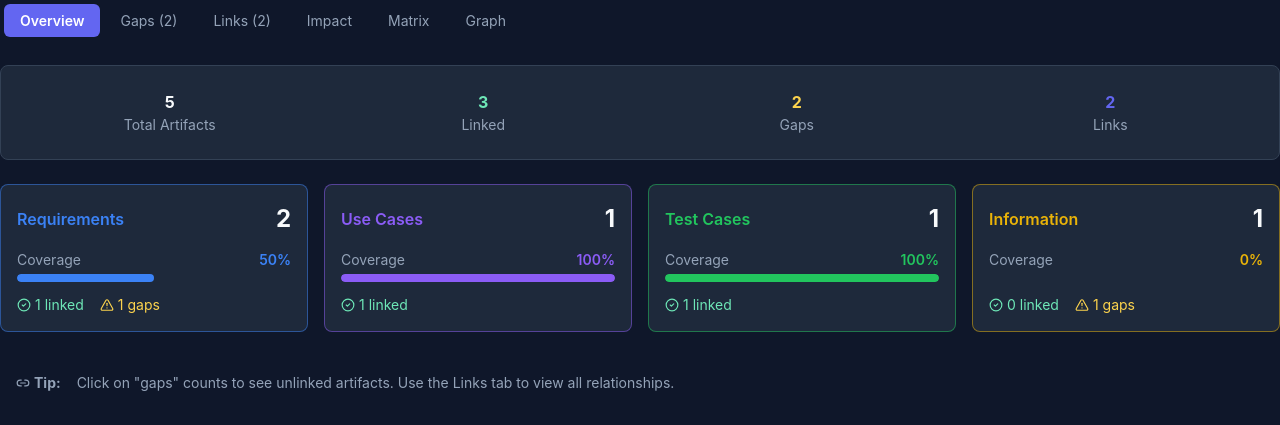
Test: TraceabilityDashboard › Impact Tab › shows artifact selector dropdown
This screenshot has width=1280, height=425.
What coordinates should you click on to do the following:
click the button "Impact"
I would click on:
 (329, 20)
Its box is [291,4,368,37].
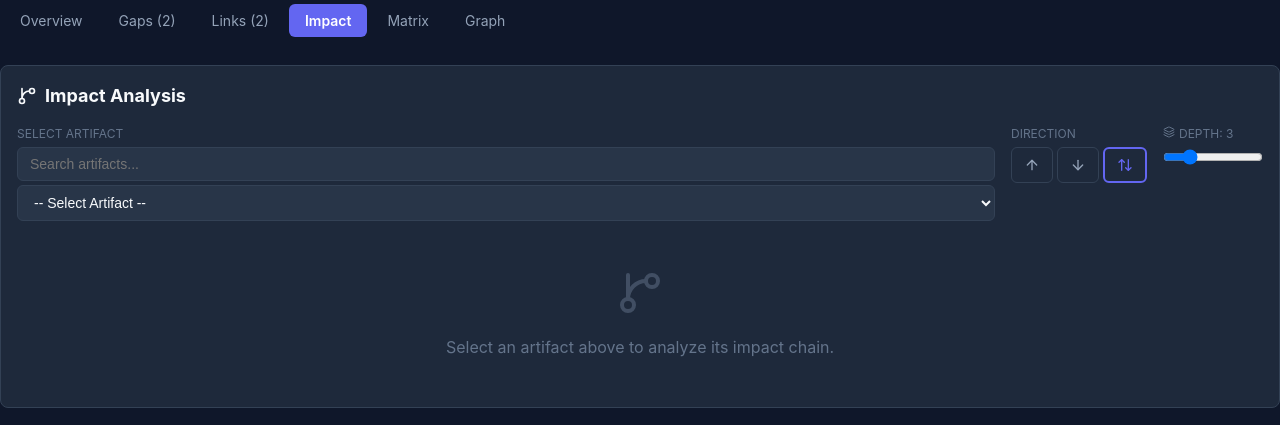
Check: the text "Select Artifact" is shown, box [17,126,123,141]
Check: the dropdown is shown, box [17,185,995,221]
